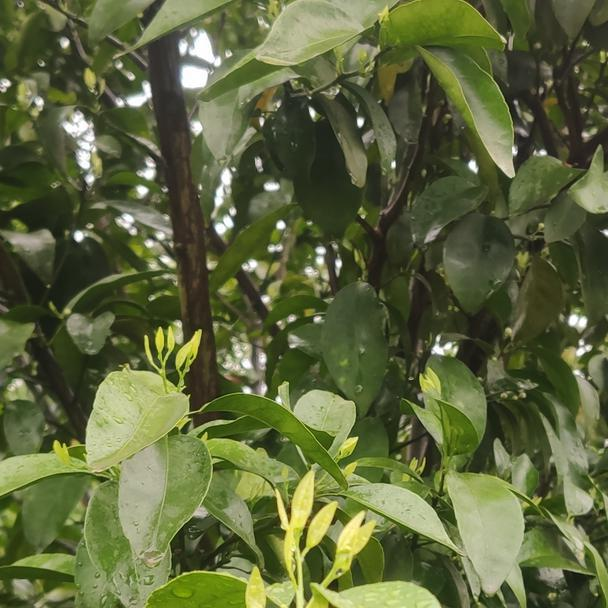shoot: (258, 473, 340, 597), (325, 520, 380, 578), (141, 326, 177, 394), (176, 331, 207, 393), (416, 368, 447, 410)
